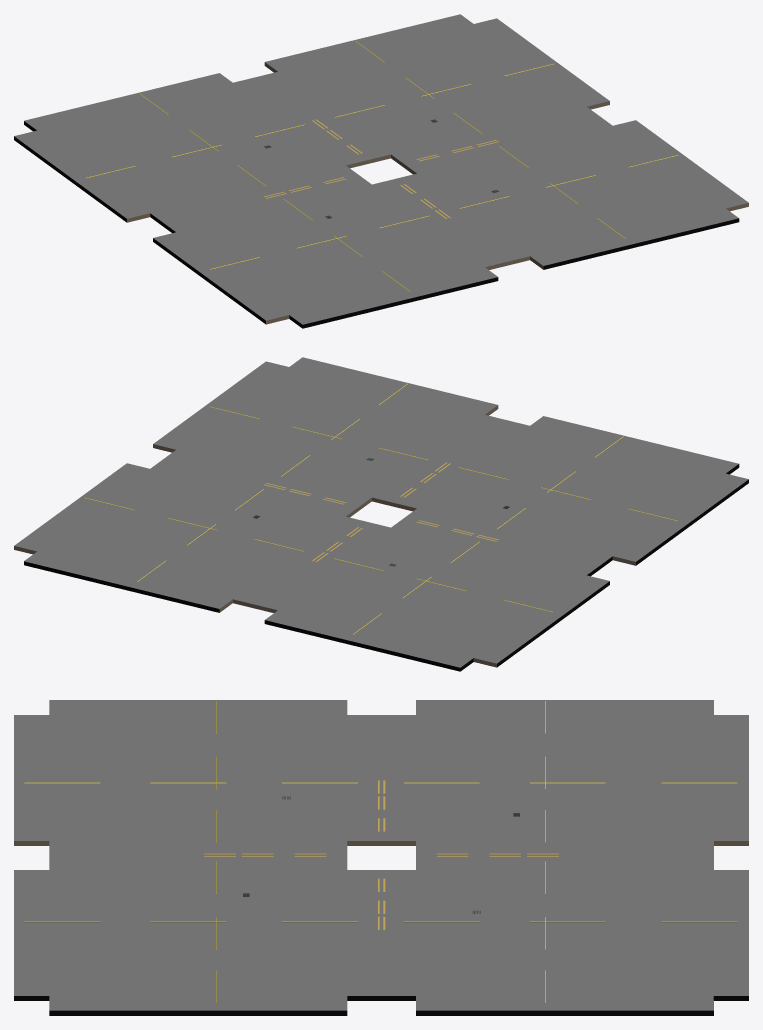
The picture shows the model from 3 angles, top to bottom: view 1: azimuth 30°, elevation 25°; view 2: azimuth 150°, elevation 25°; view 3: azimuth 270°, elevation 25°; orthographic projection. The views are drawn at different scales.
Parts seen in each view (by area): view 1: RD105 | archived geometry, RD105 | line, light and sprite surfaces, Fitted street and landscape details; view 2: RD105 | archived geometry, RD105 | line, light and sprite surfaces, Fitted street and landscape details; view 3: RD105 | archived geometry, RD105 | line, light and sprite surfaces, Fitted street and landscape details.
Boxes of the visible parts, x1,y1,x2,y2 form: RD105 | archived geometry: [14, 14, 748, 328]; RD105 | line, light and sprite surfaces: [85, 41, 678, 291]; Fitted street and landscape details: [264, 119, 498, 218]; RD105 | archived geometry: [14, 357, 748, 671]; RD105 | line, light and sprite surfaces: [85, 383, 677, 634]; Fitted street and landscape details: [253, 458, 509, 566]; RD105 | archived geometry: [14, 700, 748, 1015]; RD105 | line, light and sprite surfaces: [24, 701, 736, 1002]; Fitted street and landscape details: [204, 780, 558, 929].
Bounding box in the file's own units: 32.08 × 0.4436 × 32.08.
